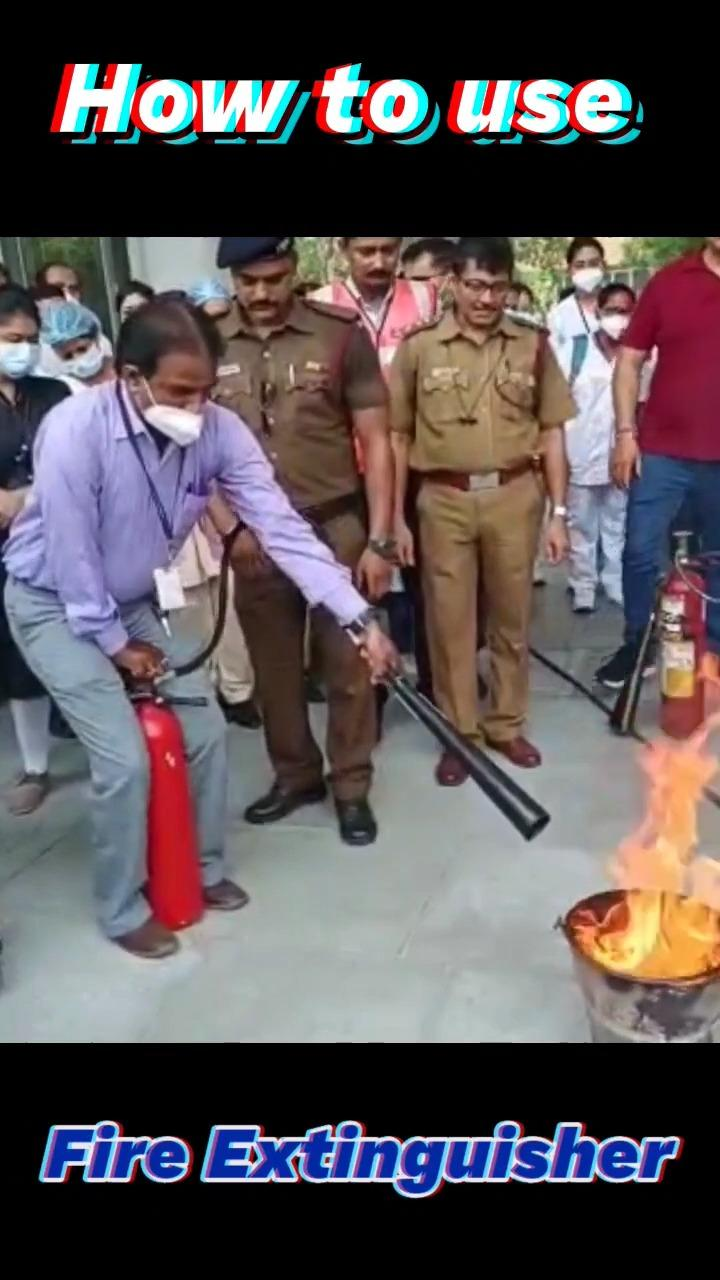FireExtinguisher: (123, 663, 219, 946), (636, 536, 720, 750)
not: (573, 723, 720, 999), (318, 238, 430, 503), (608, 235, 720, 468)
